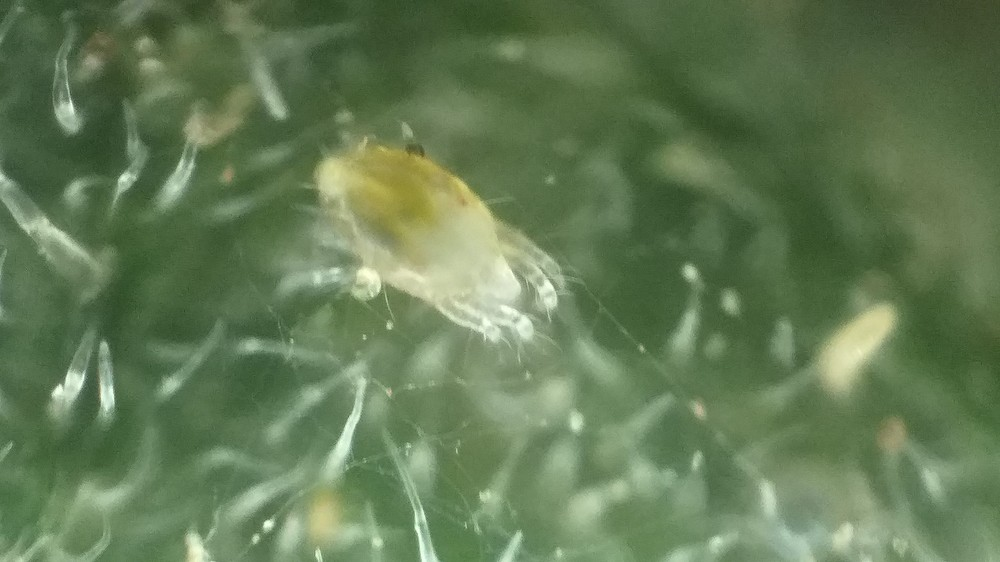Aracnido Rojo: (269, 112, 603, 396)
